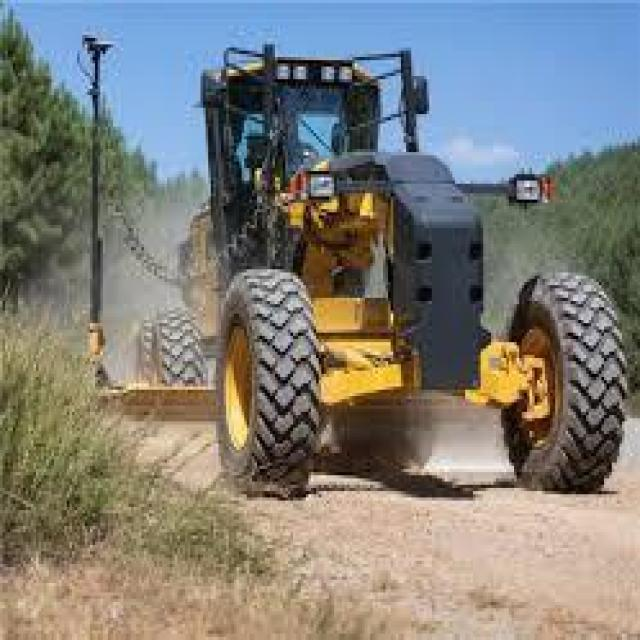Grader: (75, 44, 620, 545)
